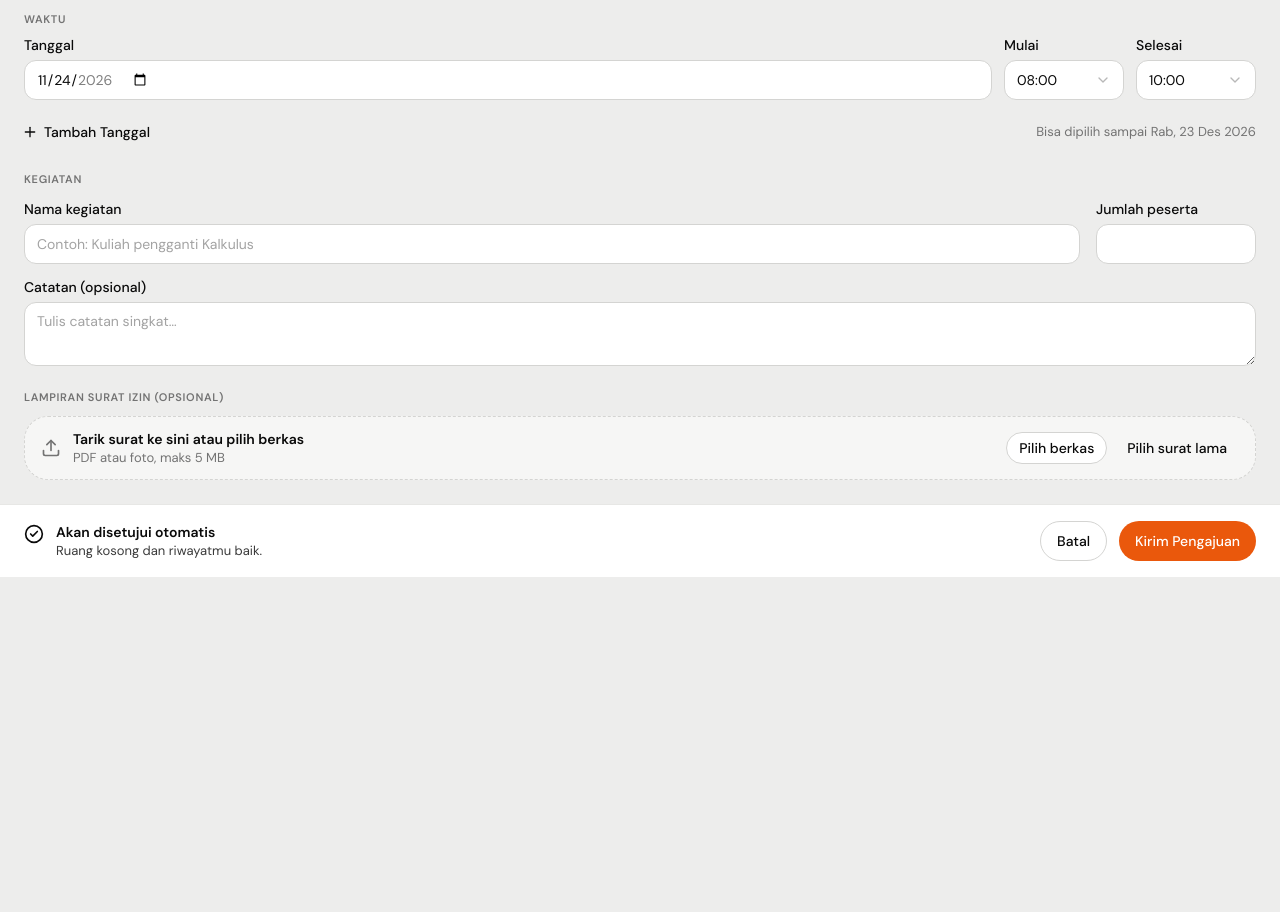
Test: RequestForm › blocked and quota › shows the block banner when the server refuses with BOOKING_BLOCKED
In the field labelled "Nama kegiatan": (552, 244) left=24, top=224, right=1080, bottom=264, type "Kuliah pengganti"
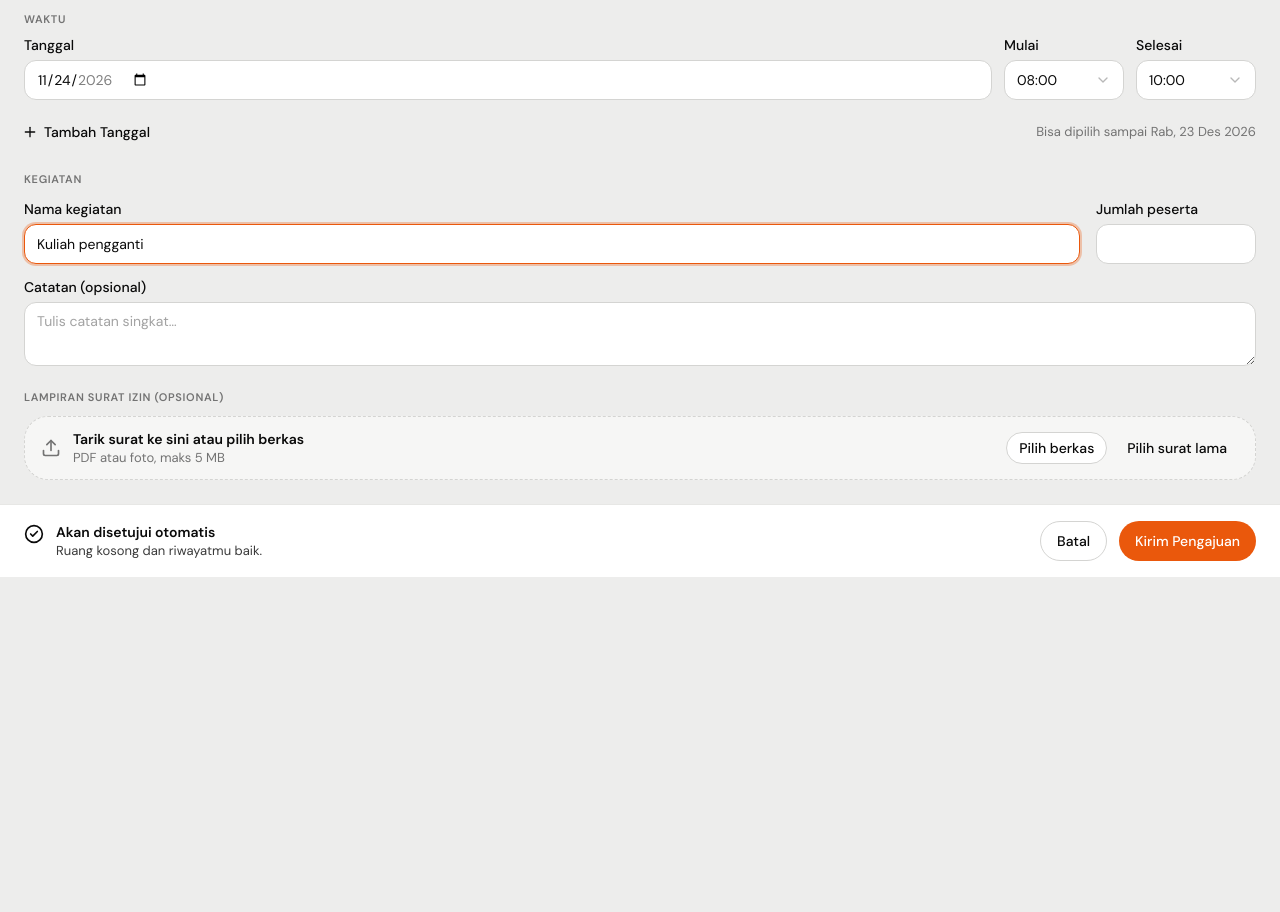
Click the button "Kirim Pengajuan": (1188, 541) left=1119, top=521, right=1256, bottom=561
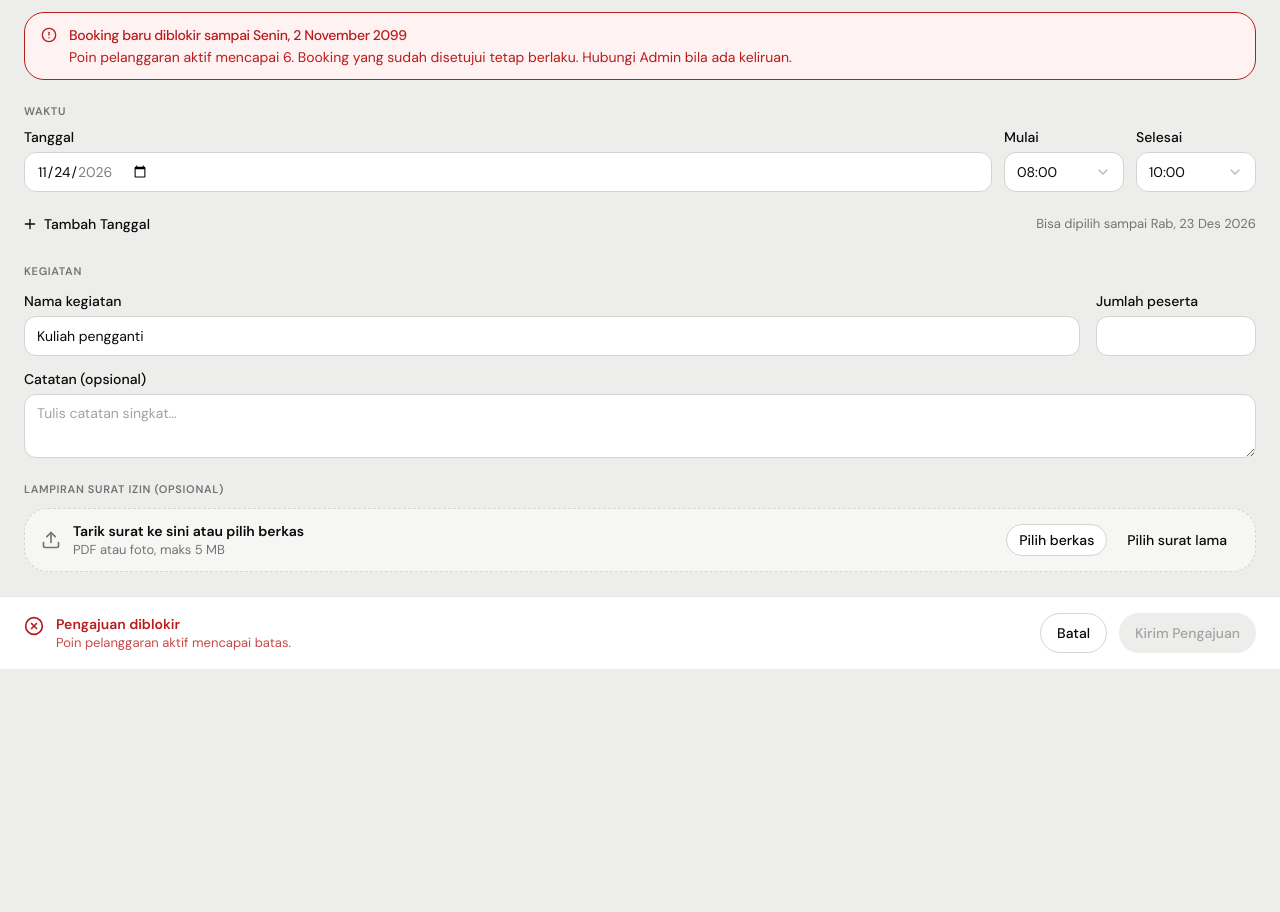
expect the text "Booking baru diblokir sampai Senin, 2 November 2099" is shown: met, box left=69, top=26, right=407, bottom=44
